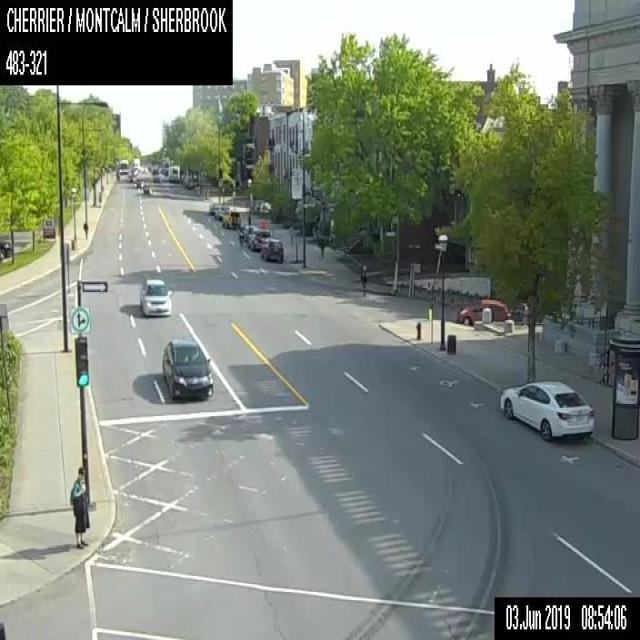bus: (167, 165, 180, 180), (119, 158, 128, 172)
pedestrian: (69, 467, 89, 548), (360, 264, 366, 296)
vehicle: (498, 378, 596, 438), (160, 337, 213, 396), (456, 297, 509, 324), (138, 278, 172, 315), (260, 237, 283, 260), (246, 228, 269, 250), (222, 209, 240, 228), (239, 223, 254, 240), (0, 238, 11, 258), (214, 204, 228, 218), (209, 200, 219, 213), (133, 176, 143, 187), (141, 184, 151, 194), (132, 157, 139, 168), (152, 174, 160, 181), (127, 174, 134, 181), (152, 167, 158, 173)
